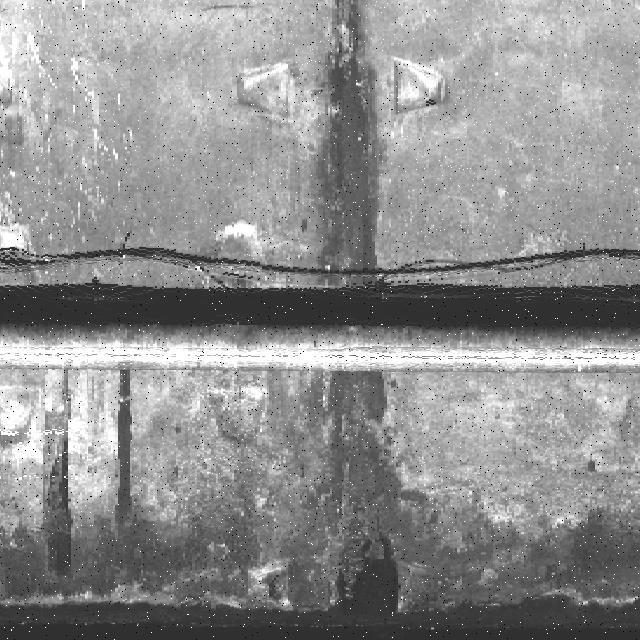leakage: (259, 374, 423, 640), (428, 490, 634, 640), (305, 1, 378, 293), (0, 596, 252, 640), (30, 415, 76, 581), (110, 369, 145, 538)
